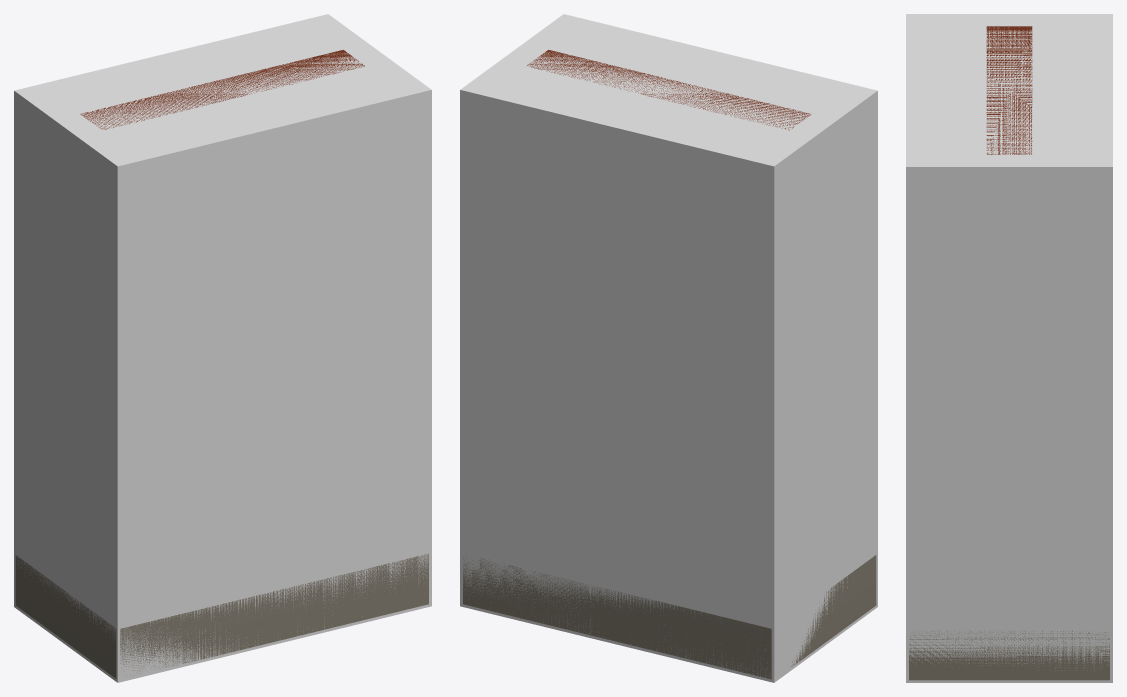
The model's file is KIT_SF_SlabMarker_Rust_A.glb.
3 views of the same model, side by side, from view 1: azimuth 30°, elevation 25°; view 2: azimuth 150°, elevation 25°; view 3: azimuth 270°, elevation 25° (orthographic).
Parts seen in each view (by area): view 1: KIT_SF_SlabMarker_Rust_A_COL, KIT_SF_SlabMarker_Rust_A; view 2: KIT_SF_SlabMarker_Rust_A_COL, KIT_SF_SlabMarker_Rust_A; view 3: KIT_SF_SlabMarker_Rust_A_COL, KIT_SF_SlabMarker_Rust_A.
Part boxes in pixels (x1=…): KIT_SF_SlabMarker_Rust_A_COL: x1=14, y1=14, x2=431, y2=682; KIT_SF_SlabMarker_Rust_A: x1=15, y1=50, x2=428, y2=678; KIT_SF_SlabMarker_Rust_A_COL: x1=460, y1=14, x2=877, y2=682; KIT_SF_SlabMarker_Rust_A: x1=463, y1=49, x2=876, y2=679; KIT_SF_SlabMarker_Rust_A_COL: x1=906, y1=14, x2=1112, y2=682; KIT_SF_SlabMarker_Rust_A: x1=909, y1=26, x2=1109, y2=680.
Size of what is drawn, in the model's own units: 0.7 by 1.1 by 0.4.
